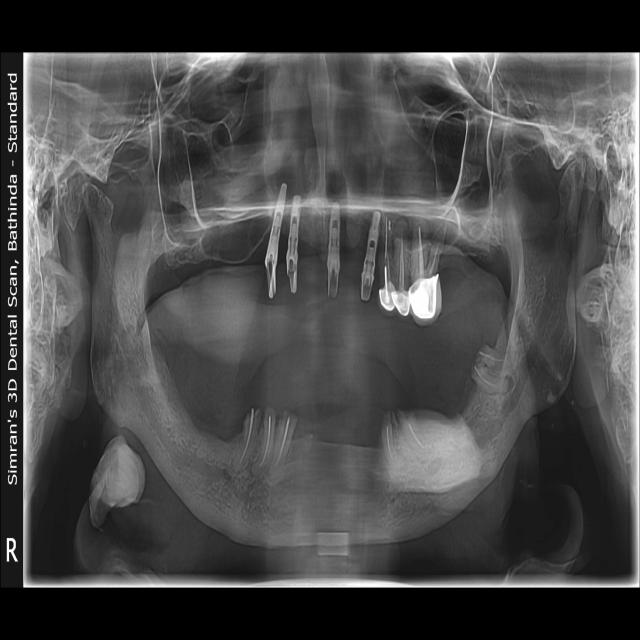Crown: (378, 276, 439, 320)
Implant: (265, 185, 288, 300), (360, 211, 382, 300), (284, 195, 302, 293), (327, 203, 340, 299)
Missing teeth: (167, 235, 256, 310), (298, 429, 376, 479), (183, 413, 234, 465), (300, 222, 326, 275), (343, 225, 364, 274), (449, 246, 483, 276), (464, 386, 487, 423)
Periapical lesion: (506, 376, 513, 392)
Root Canal Treatment: (410, 224, 445, 326), (473, 343, 510, 399), (233, 407, 263, 473), (270, 413, 298, 483), (396, 409, 432, 461), (251, 406, 275, 479), (379, 212, 394, 314), (394, 226, 408, 320), (384, 415, 399, 470)
